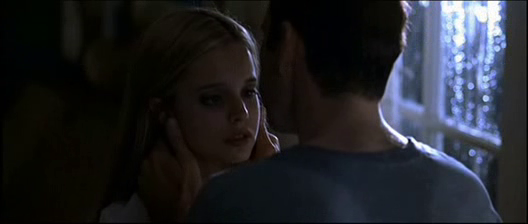cu: (1, 1, 528, 224)
face: (186, 50, 261, 163)
person: (182, 1, 504, 224), (97, 5, 284, 224)
